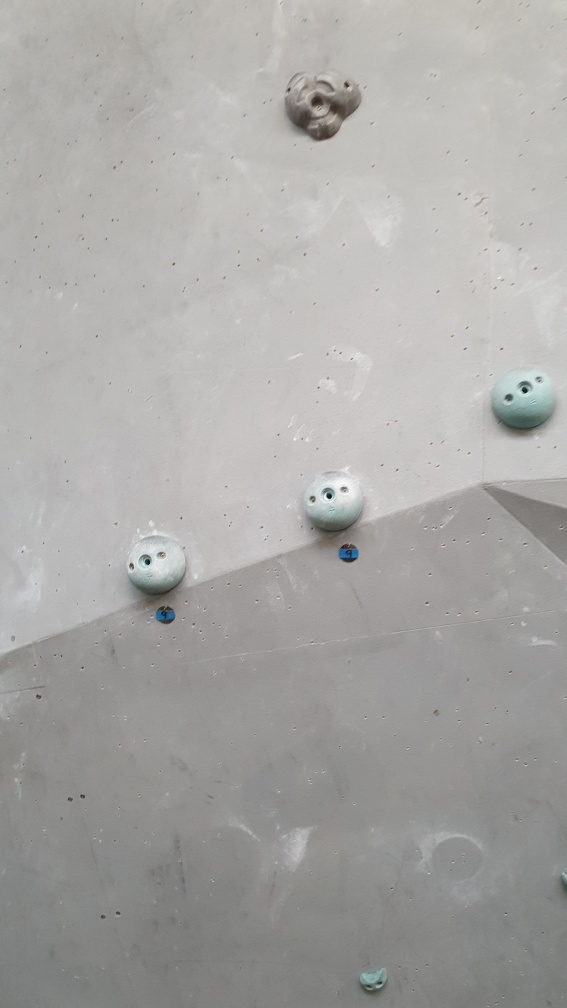Hand Start: (154, 603, 178, 627), (336, 541, 359, 563)
Jug: (282, 65, 364, 142)
Sloper: (490, 367, 560, 435), (303, 470, 368, 534), (128, 535, 186, 597)
